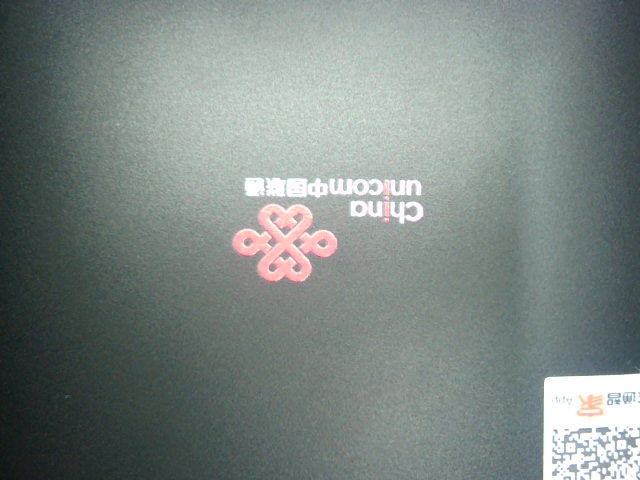AC_ChinaUnicom: (219, 174, 426, 288)
